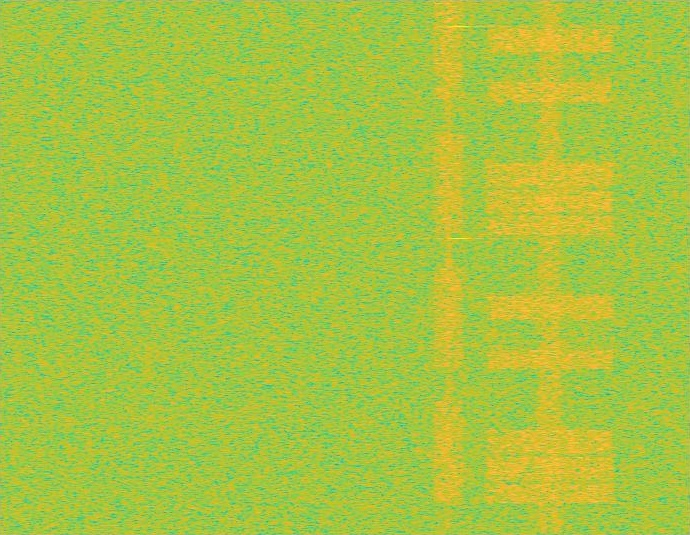5G: (431, 0, 466, 534)
DSSS: (534, 0, 565, 534), (445, 0, 452, 534)
LTE: (481, 0, 619, 534)
Radar: (452, 0, 466, 534)
